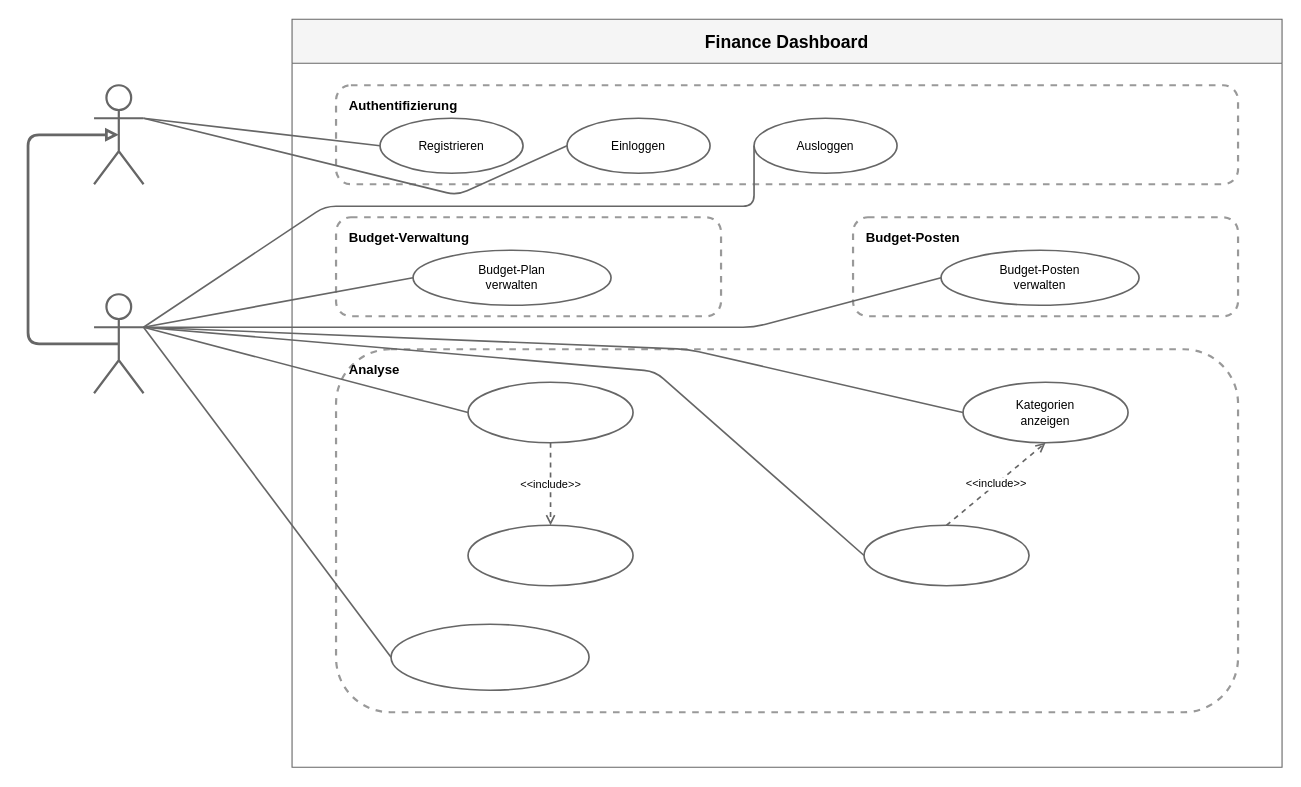
The diagram is 1301 pixels wide and 787 high, and some of its shapes have lost their labels. The centre of each missing label's shape, as x and y in pixels:
"Authentifizierter Benutzer" goes at (x=118, y=343).
"Benutzer" goes at (x=118, y=134).
"Kategorieauswertung anzeigen" goes at (x=946, y=555).
"Kategorienverteilung als Diagramm anzeigen" goes at (x=489, y=657).
"Monatsübersicht anzeigen" goes at (x=550, y=555).
"Plan-Dashboard anzeigen" goes at (x=550, y=412).
